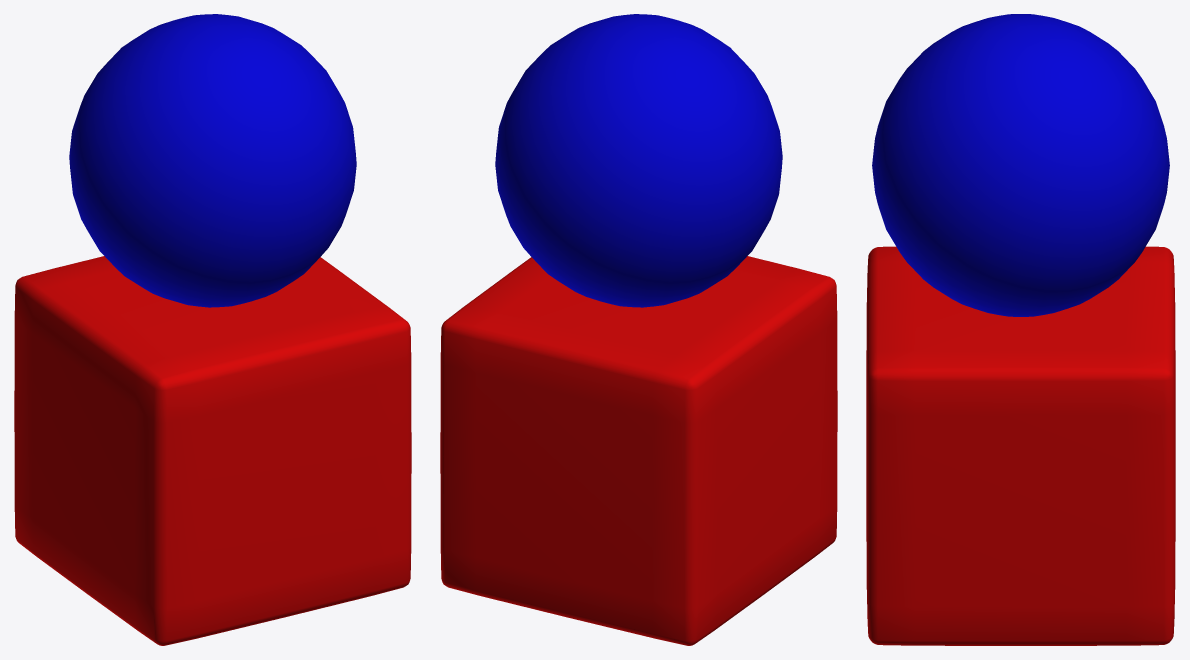
Rendered from baketest.dae.
The picture shows the model from 3 angles, left to right: view 1: azimuth 30°, elevation 25°; view 2: azimuth 150°, elevation 25°; view 3: azimuth 270°, elevation 25°; orthographic projection. The views are drawn at different scales.
Visible parts, largest first — view 1: Cube, Sphere; view 2: Cube, Sphere; view 3: Cube, Sphere.
Part boxes in pixels (x1=…): Cube: x1=14, y1=256, x2=411, y2=645; Sphere: x1=69, y1=14, x2=356, y2=307; Cube: x1=440, y1=256, x2=837, y2=645; Sphere: x1=495, y1=14, x2=782, y2=307; Cube: x1=866, y1=246, x2=1175, y2=645; Sphere: x1=872, y1=14, x2=1169, y2=316.
Size of what is drawn, in the model's own units: 2 by 2 by 3.99.
